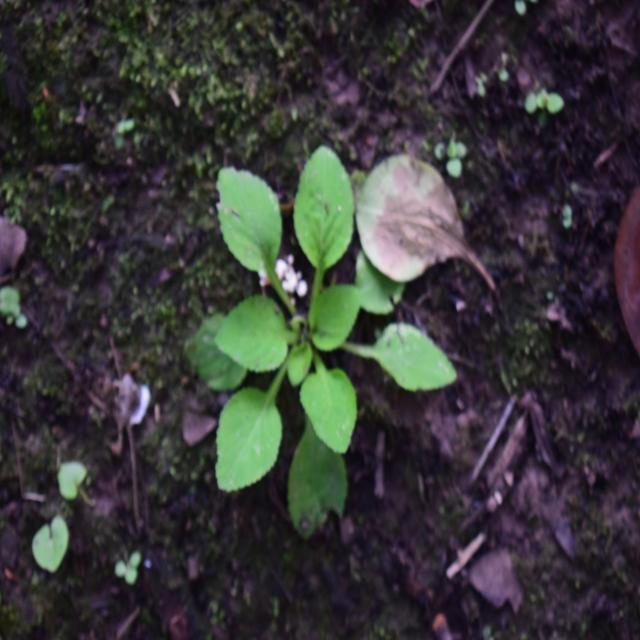Viola: (217, 165, 464, 534)
